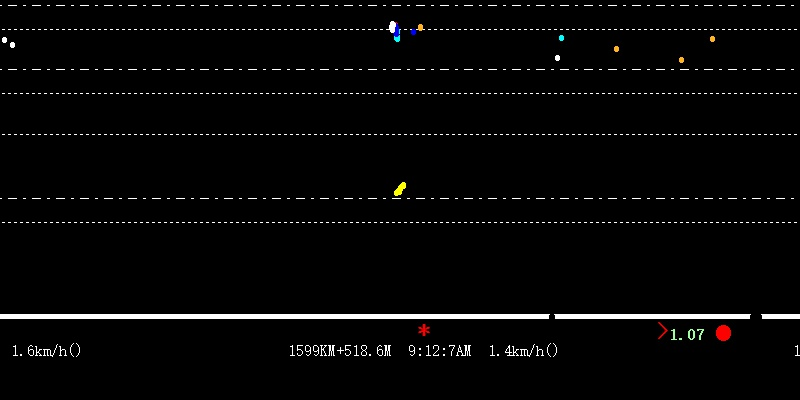circle: (715, 322, 731, 342)
face_down: (557, 24, 565, 41)
face_s: (388, 17, 401, 43)
star: (416, 320, 432, 337)
